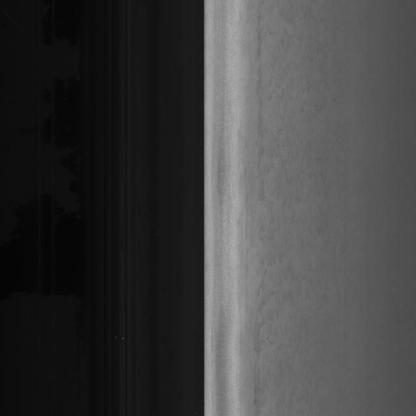silk_spot: (243, 238, 300, 350)
